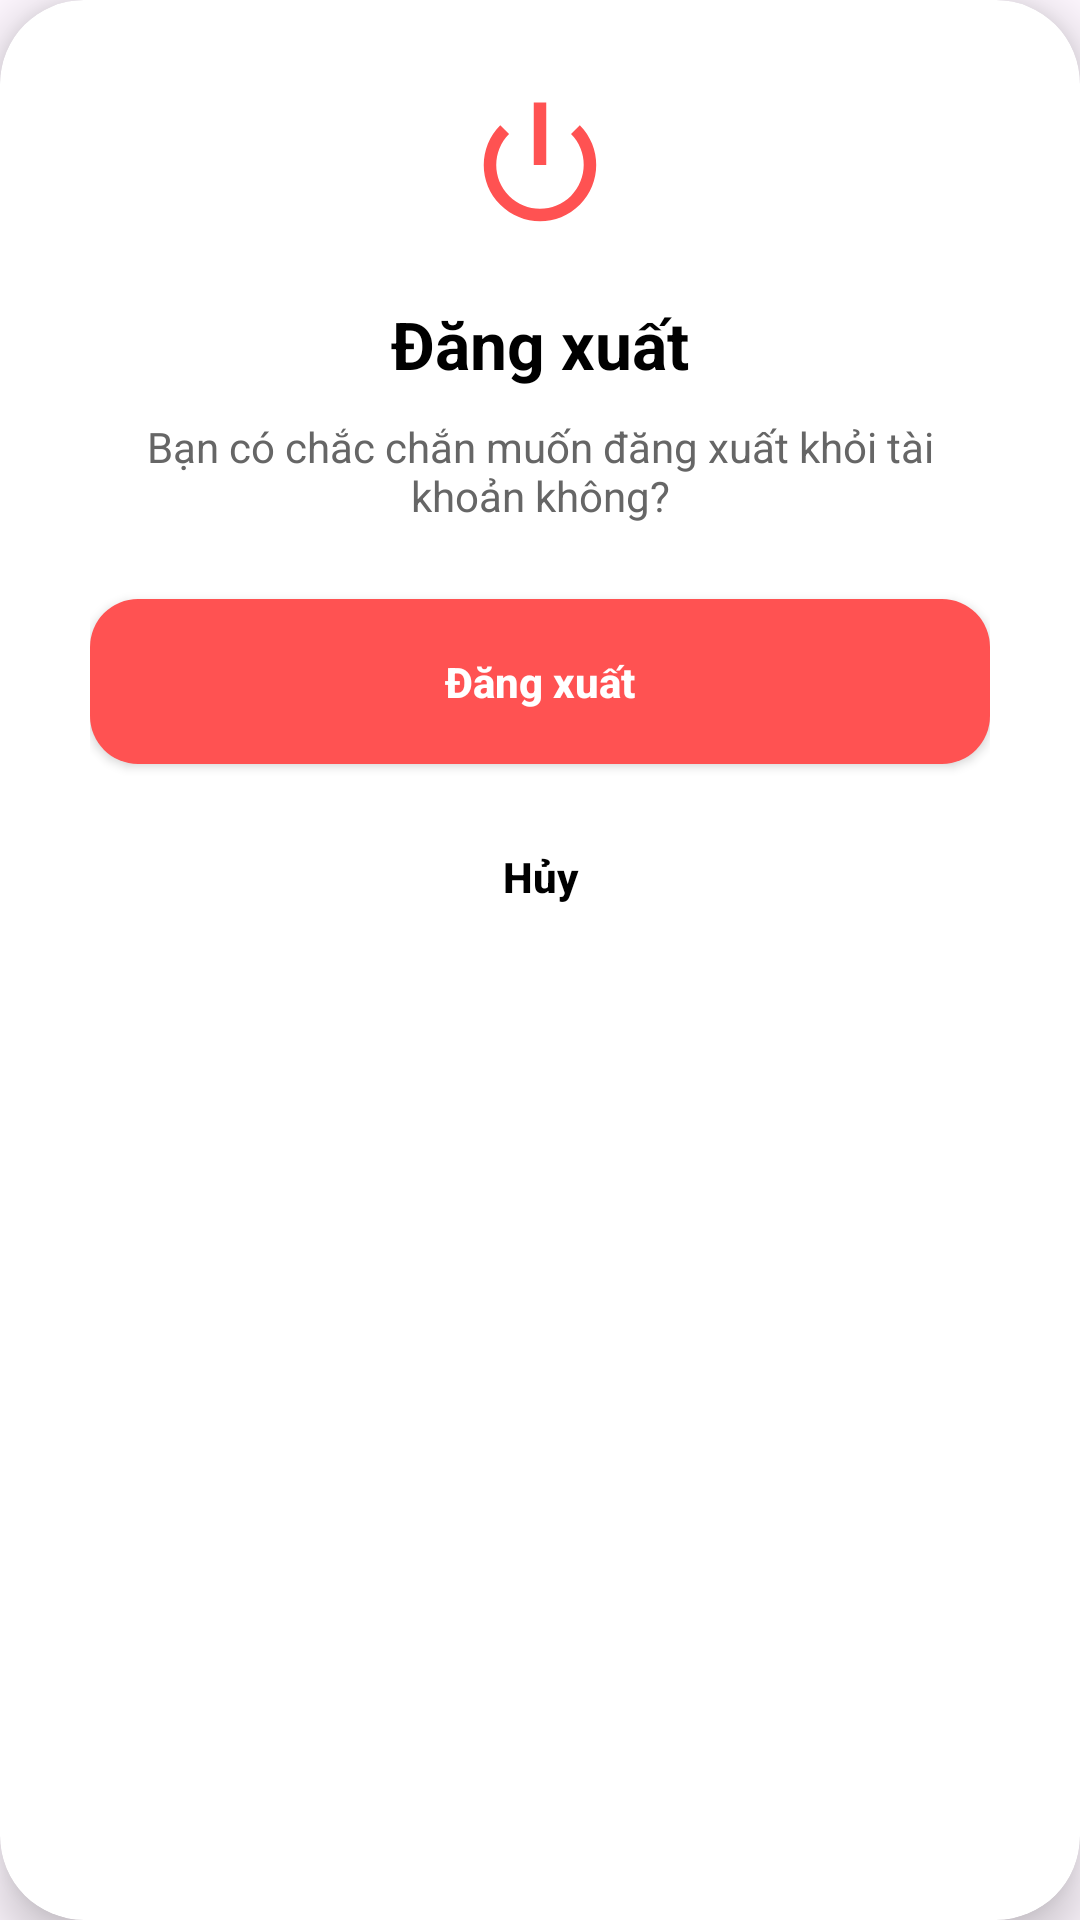

Named icons in this screenshot (1080×1920) and their bounding boxes, (x1, y1, x2, y2):
lock power off: (483, 102, 597, 222)
